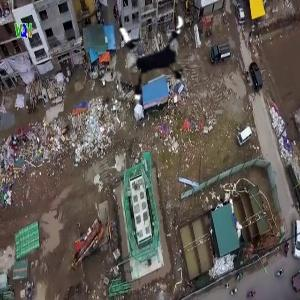drone: (103, 4, 202, 103)
